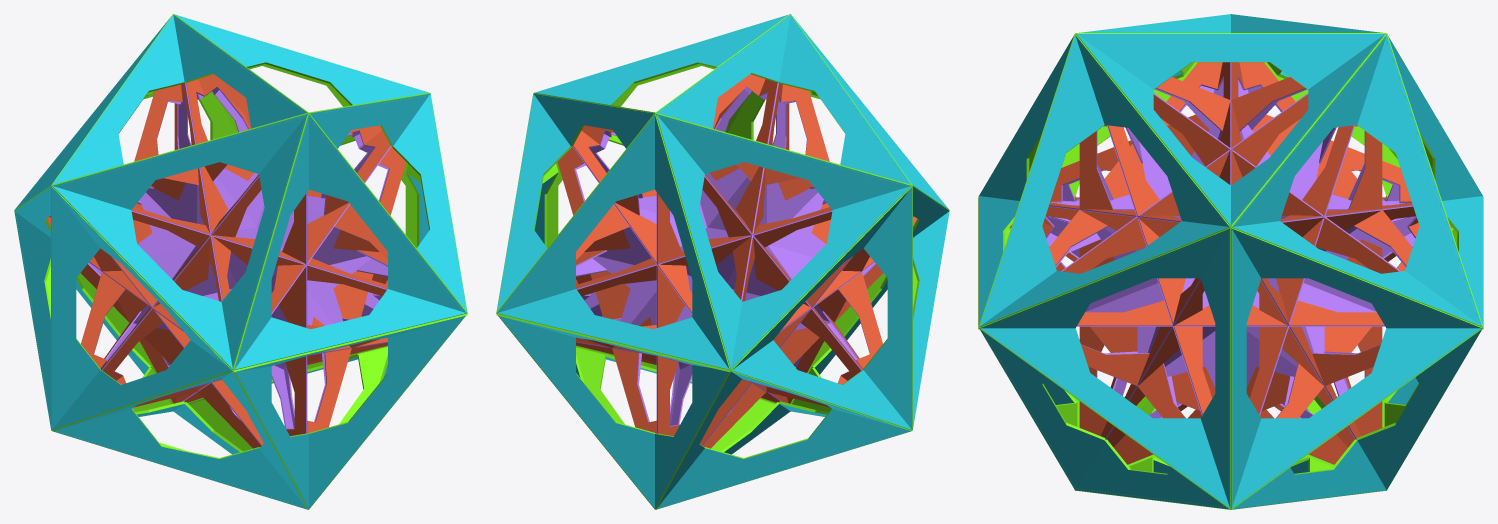
File: GreatDodecahedronS1.glb
The picture shows the model from 3 angles, left to right: view 1: azimuth 30°, elevation 25°; view 2: azimuth 150°, elevation 25°; view 3: azimuth 270°, elevation 25°; orthographic projection. The views are drawn at different scales.
Visible parts, largest first — view 1: Mesh_0004_1, Mesh_0003_2, Mesh_0003_1, Mesh_0004; view 2: Mesh_0004_1, Mesh_0003_2, Mesh_0003_1, Mesh_0004; view 3: Mesh_0004_1, Mesh_0003_2, Mesh_0003_1, Mesh_0004.
Part boxes in pixels (bbox=[...]): Mesh_0004_1: bbox=[14, 14, 467, 509]; Mesh_0003_2: bbox=[46, 74, 406, 448]; Mesh_0003_1: bbox=[82, 82, 391, 445]; Mesh_0004: bbox=[14, 14, 467, 509]; Mesh_0004_1: bbox=[496, 14, 949, 509]; Mesh_0003_2: bbox=[557, 74, 917, 448]; Mesh_0003_1: bbox=[572, 82, 881, 445]; Mesh_0004: bbox=[496, 14, 949, 509]; Mesh_0004_1: bbox=[978, 14, 1483, 509]; Mesh_0003_2: bbox=[1010, 62, 1451, 464]; Mesh_0003_1: bbox=[1045, 62, 1416, 464]; Mesh_0004: bbox=[978, 16, 1483, 509].
Bounding box in the file's own units: 7.74 × 7.74 × 7.75.
